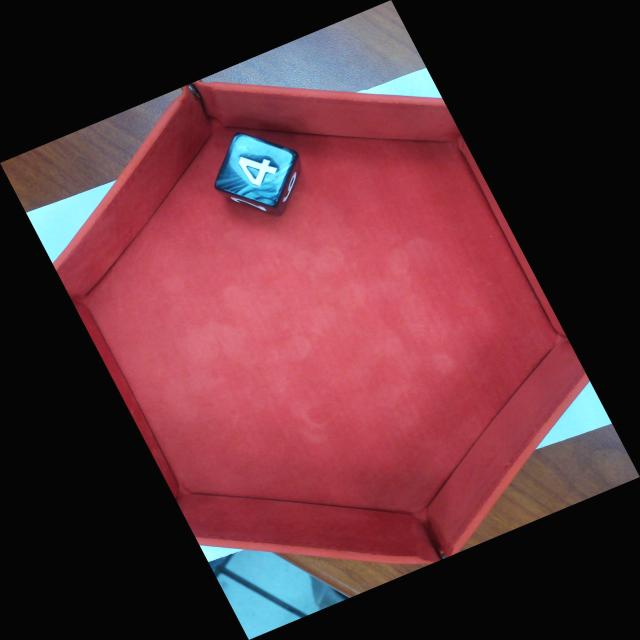dice: (209, 129, 301, 210)
